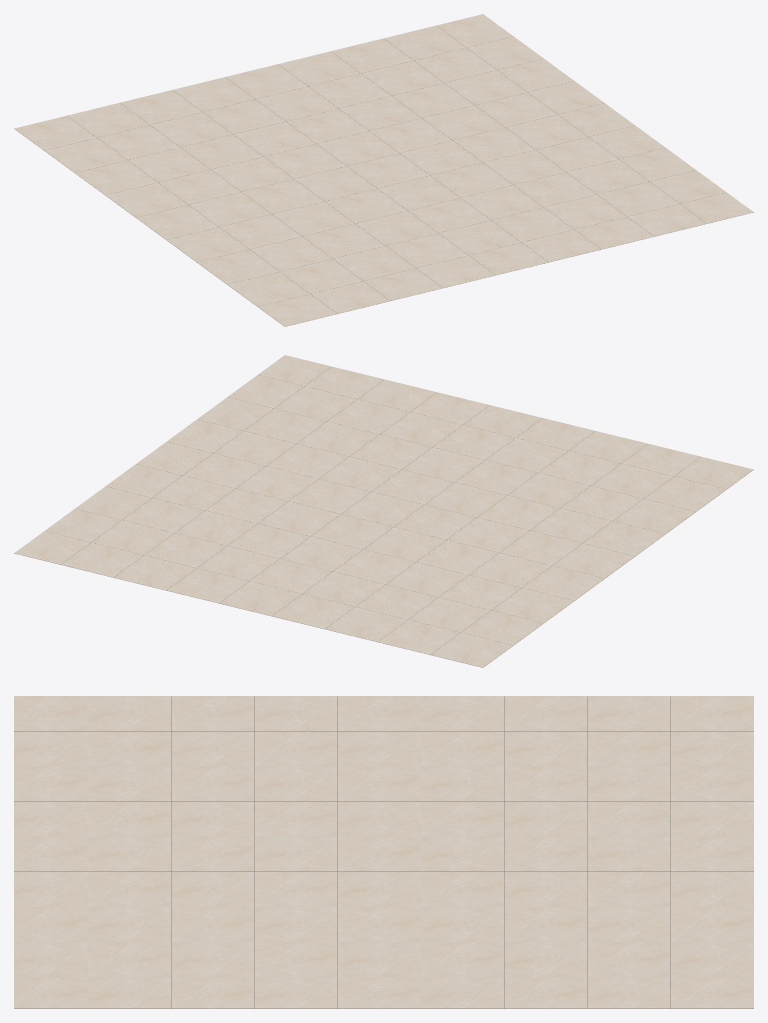
The model's file is sunny-90x90.glb.
3 views of the same model, one above another, from view 1: azimuth 30°, elevation 25°; view 2: azimuth 150°, elevation 25°; view 3: azimuth 270°, elevation 25° (orthographic). The views are drawn at different scales.
Parts seen in each view (by area): view 1: Sunny; view 2: Sunny; view 3: Sunny.
Boxes of the visible parts, x1=… form: Sunny: x1=14, y1=14, x2=753, y2=326; Sunny: x1=14, y1=355, x2=753, y2=667; Sunny: x1=14, y1=696, x2=753, y2=1008.
Size of the model in its own units: 8 by 0.003 by 8.
Materials: 2 (1 with a texture image).
